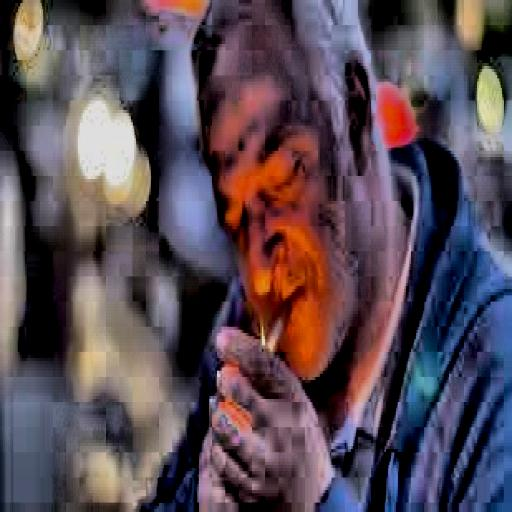fire: (249, 311, 270, 352)
